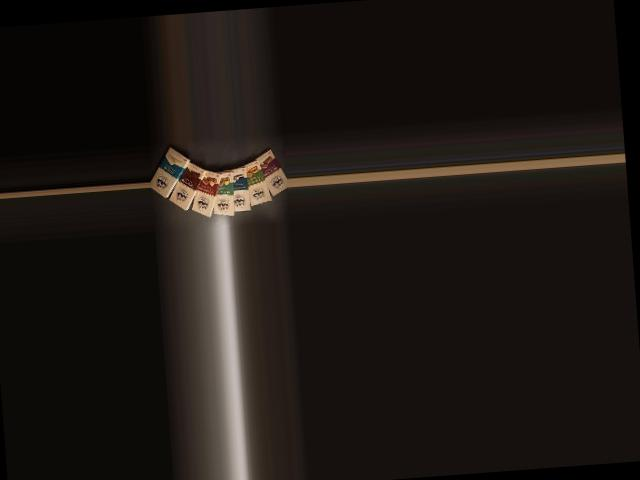chocolate: (148, 142, 192, 200)
